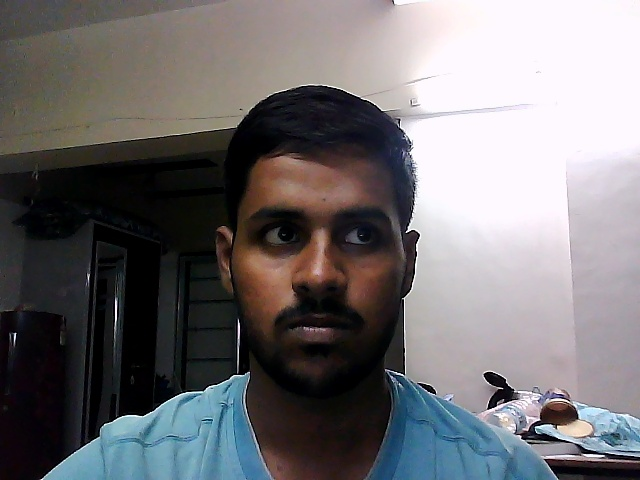awake: (185, 73, 441, 387)
